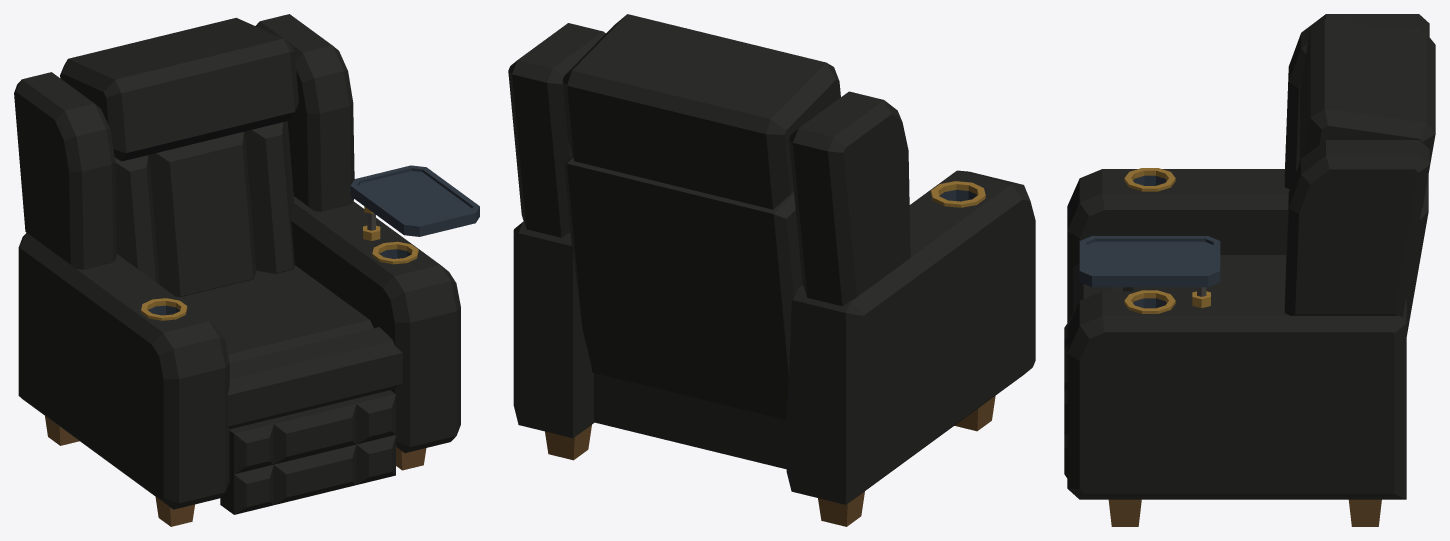
Rendered from sportsbook-recliner-a22441.glb.
3 views of the same model, side by side, from view 1: azimuth 30°, elevation 25°; view 2: azimuth 150°, elevation 25°; view 3: azimuth 270°, elevation 25° (orthographic). The views are drawn at different scales.
Visible parts, largest first — view 1: recliner, tablet-tray; view 2: recliner; view 3: recliner, tablet-tray.
Boxes of the visible parts, x1=… form: recliner: x1=14, y1=14, x2=460, y2=526; tablet-tray: x1=350, y1=165, x2=479, y2=236; recliner: x1=508, y1=14, x2=1035, y2=526; recliner: x1=1064, y1=14, x2=1435, y2=526; tablet-tray: x1=1079, y1=236, x2=1220, y2=296.
Size of the model in its own units: 0.975 by 1.06 by 0.8968.
